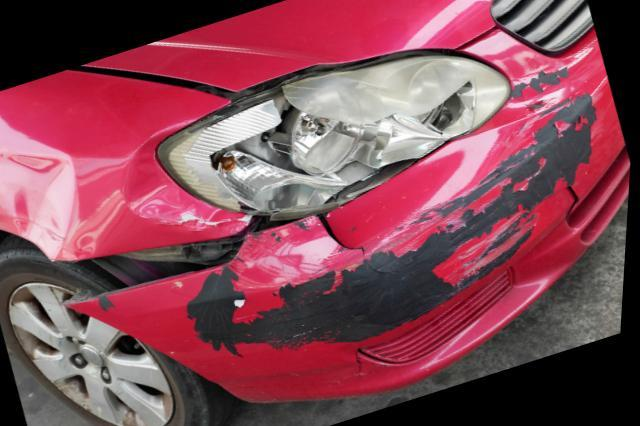crack: (318, 214, 368, 257), (568, 186, 582, 226), (360, 351, 368, 381)
dent: (126, 125, 254, 233), (0, 151, 81, 261)
dislocated part: (59, 95, 632, 407)
lamp broken: (157, 49, 515, 217)
scratch: (183, 62, 603, 351)
